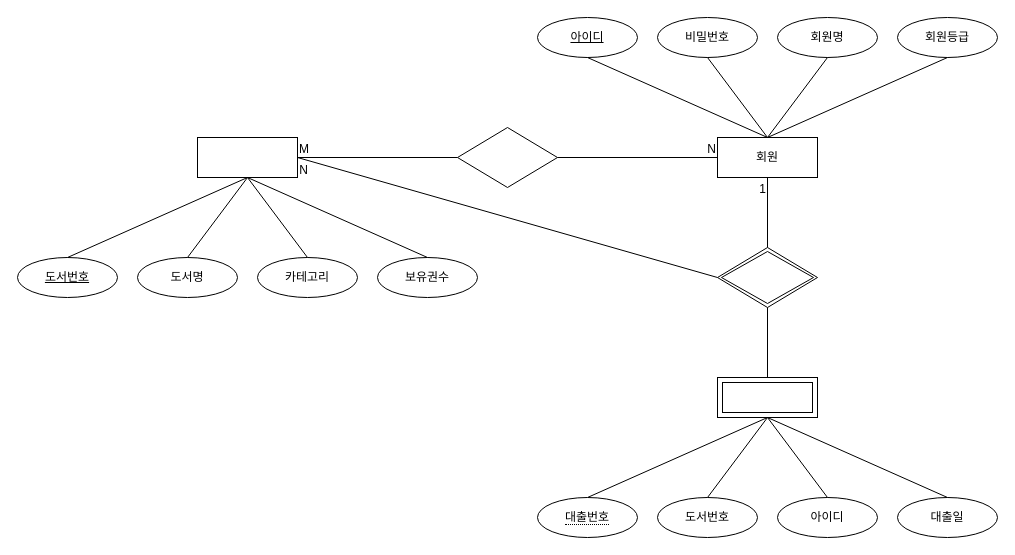
Image size: 1015x555. Some labels were removed from this diagram. The centre of each missing label's shape, as x and y in pixels:
"대출" goes at pixel 767 277.
"대출내역" goes at pixel 767 397.
"도서" goes at pixel 247 157.
"열람" goes at pixel 507 157.
